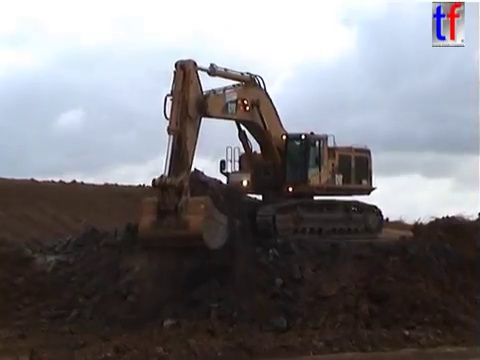excavator: (134, 56, 388, 254)
